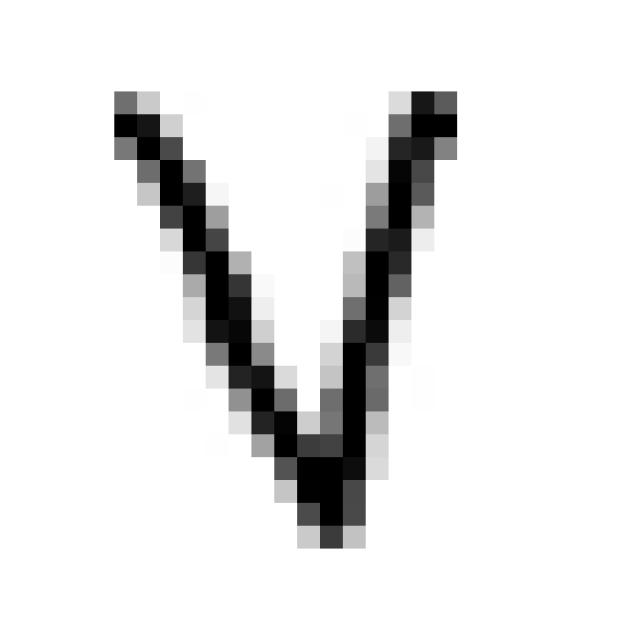7 -seven-: (94, 66, 479, 552)
